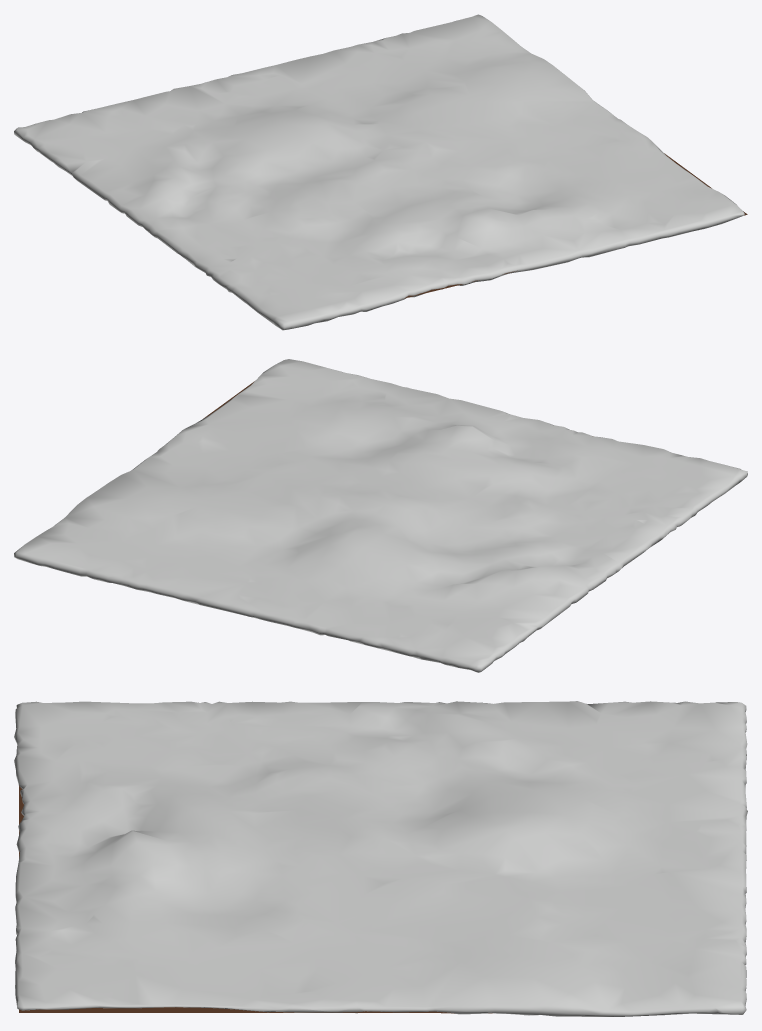
The model's file is GroundTileSnowy_3.fbx.
The picture shows the model from 3 angles, top to bottom: view 1: azimuth 30°, elevation 25°; view 2: azimuth 150°, elevation 25°; view 3: azimuth 270°, elevation 25°; orthographic projection. The views are drawn at different scales.
Visible parts, largest first — view 1: GroundTileSnowy_3; view 2: GroundTileSnowy_3; view 3: GroundTileSnowy_3.
Boxes of the visible parts, x1=… form: GroundTileSnowy_3: x1=14, y1=14, x2=747, y2=330; GroundTileSnowy_3: x1=14, y1=359, x2=747, y2=672; GroundTileSnowy_3: x1=14, y1=701, x2=747, y2=1016.
Bounding box in the file's own units: 1624 × 111 × 1621.
